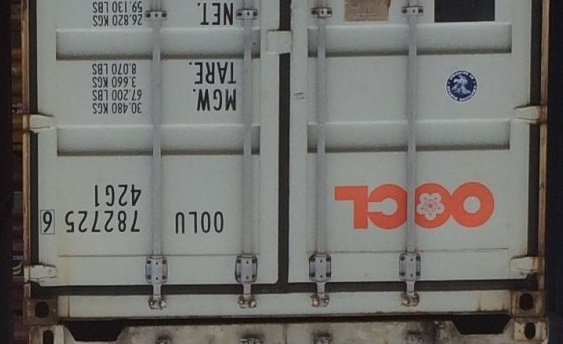container_door: (27, 1, 546, 323)
